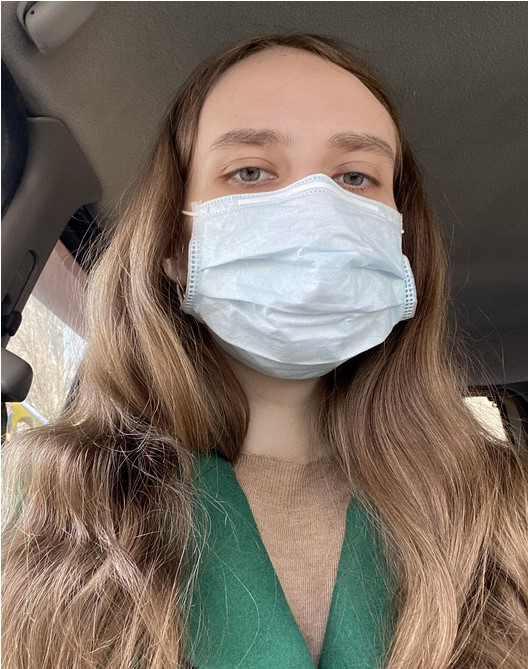face_with_mask: (154, 32, 422, 388)
